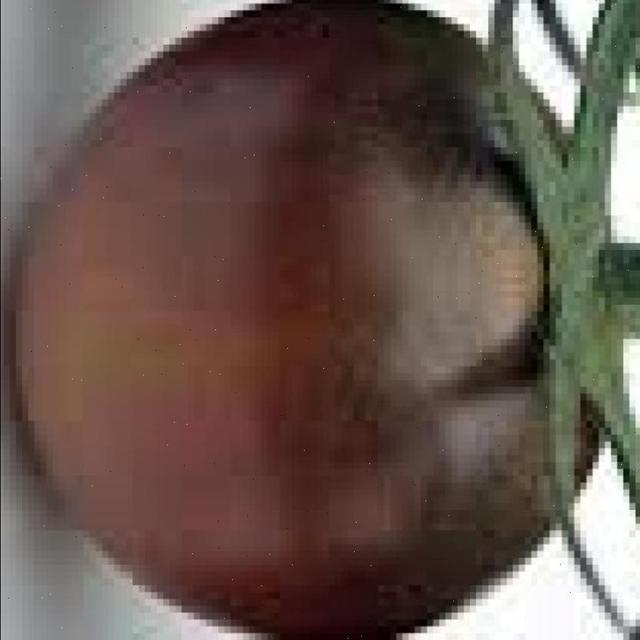Healthy Fruit: (0, 0, 422, 422)
